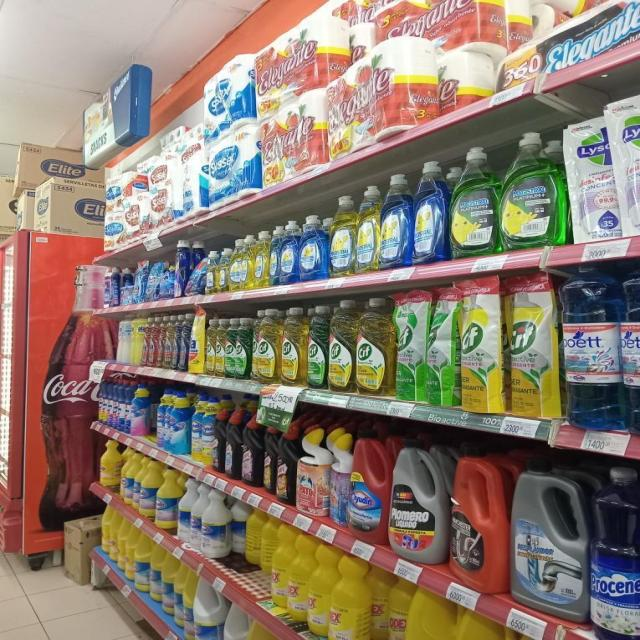ala_conc_amarillo: (164, 315, 175, 369)
ala_conc_azul: (176, 314, 187, 372)
ala_conc_rojo: (149, 316, 161, 368)
ala_sachet_amarillo: (188, 314, 204, 374)
cif_conc_bot_amarilla: (356, 296, 393, 396), (328, 300, 356, 392), (252, 309, 280, 384), (281, 308, 305, 387), (216, 318, 226, 377), (206, 316, 214, 375)
cif_conc_botella_verde: (307, 304, 327, 389), (234, 316, 250, 380), (224, 317, 234, 378)
cif_conc_sachet_amarillo: (508, 272, 560, 418), (460, 277, 506, 414)
cif_conc_sachet_verde: (394, 289, 424, 402)
magistral_con_amarillo: (329, 195, 355, 276), (356, 184, 379, 273), (230, 235, 251, 291), (206, 247, 217, 294), (218, 248, 229, 292)
magistral_con_azul: (300, 214, 327, 281), (280, 219, 298, 285)
